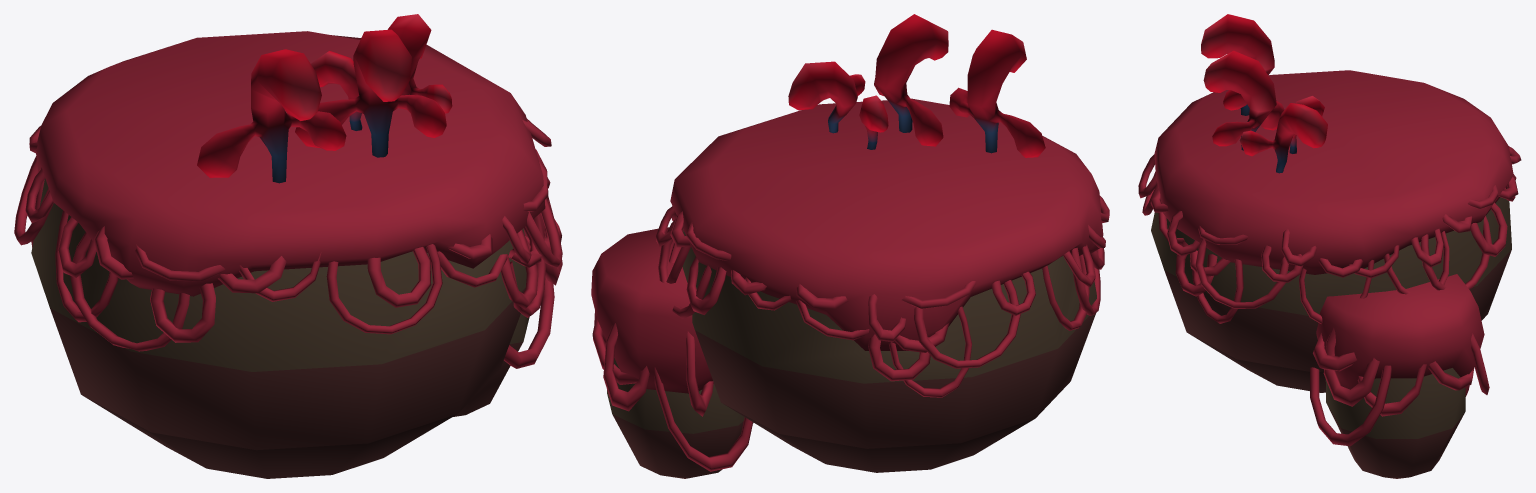
Rendered from Alien_Island17.fbx.
3 views of the same model, side by side, from view 1: azimuth 30°, elevation 25°; view 2: azimuth 150°, elevation 25°; view 3: azimuth 270°, elevation 25° (orthographic). The views are drawn at different scales.
Parts seen in each view (by area): view 1: Alien_Island17; view 2: Alien_Island17; view 3: Alien_Island17.
Boxes of the visible parts, left/top/right/bottom form: Alien_Island17: left=14, top=14, right=562, bottom=478; Alien_Island17: left=591, top=14, right=1109, bottom=478; Alien_Island17: left=1138, top=14, right=1521, bottom=478.
Size of the model in its own units: 8855 by 8172 by 7691.
